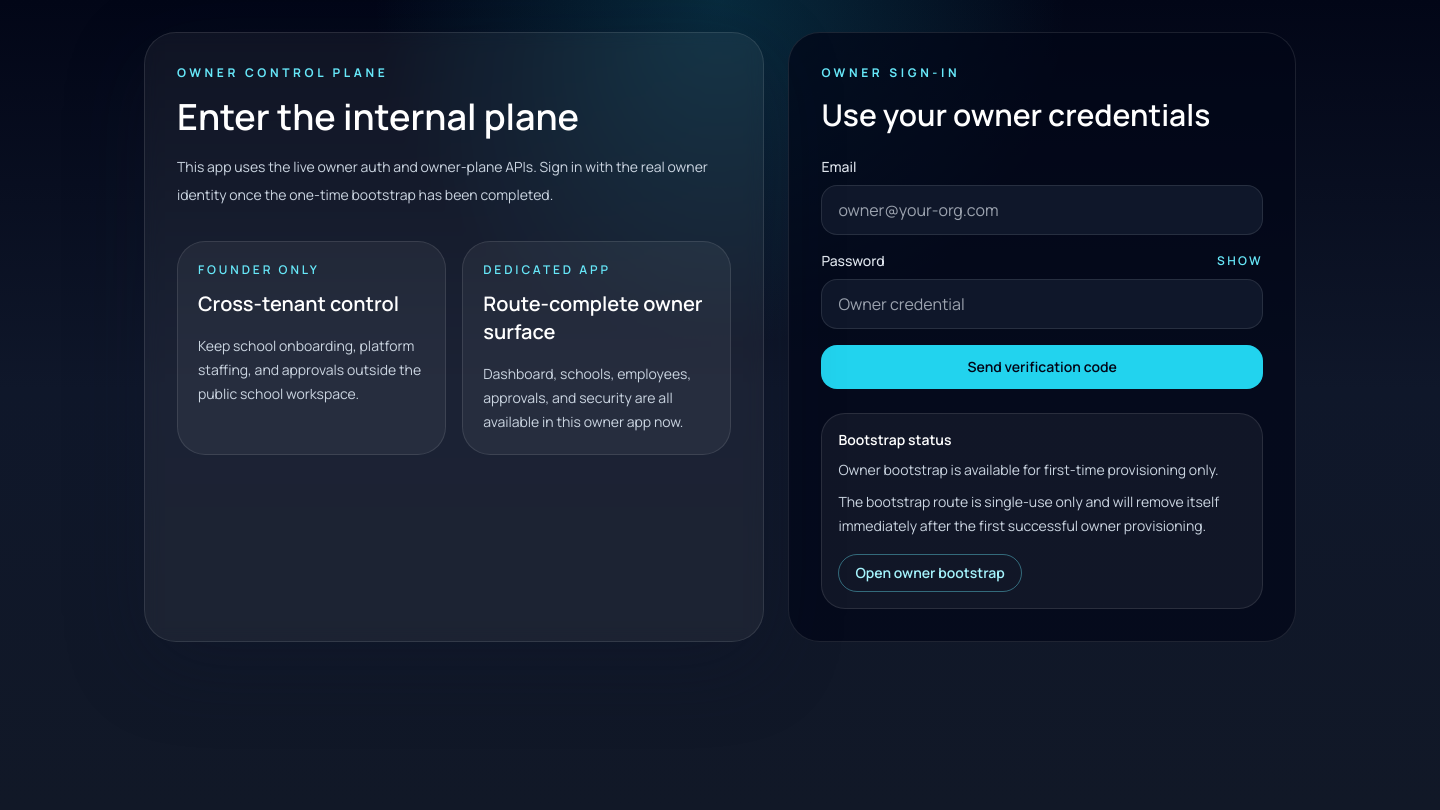
Test case: owner app › signs in through JWT and keeps login info out of localStorage
Expected: the heading "Use your owner credentials" is shown, [821,97,1263,133]
Type "owner.local@shardaos.internal" into the field labelled "Email" at (1042, 210), box [821,185,1263,235]
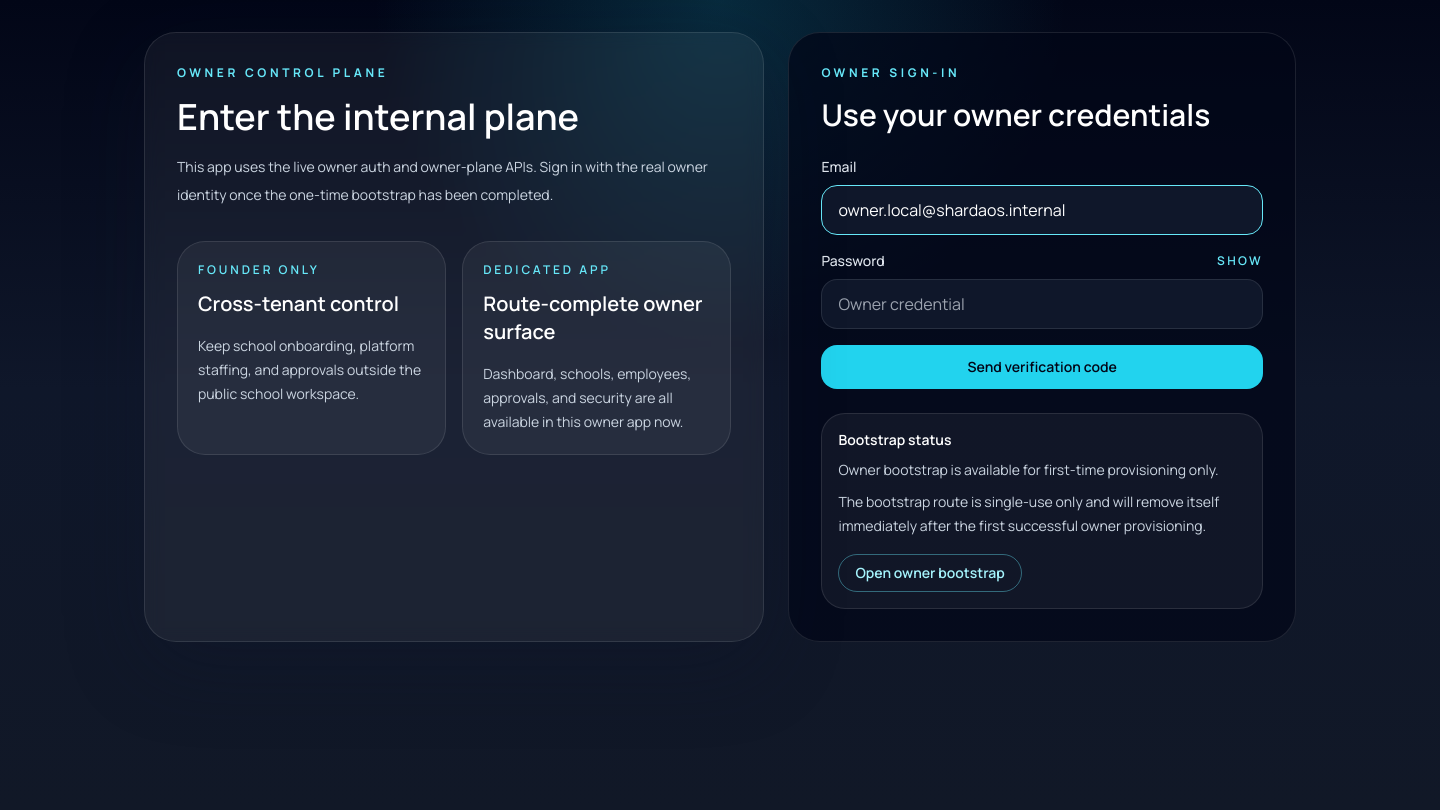
Type "OwnerPassword@123" into the password field labelled "Password" at (1042, 304), box [821,279,1263,329]
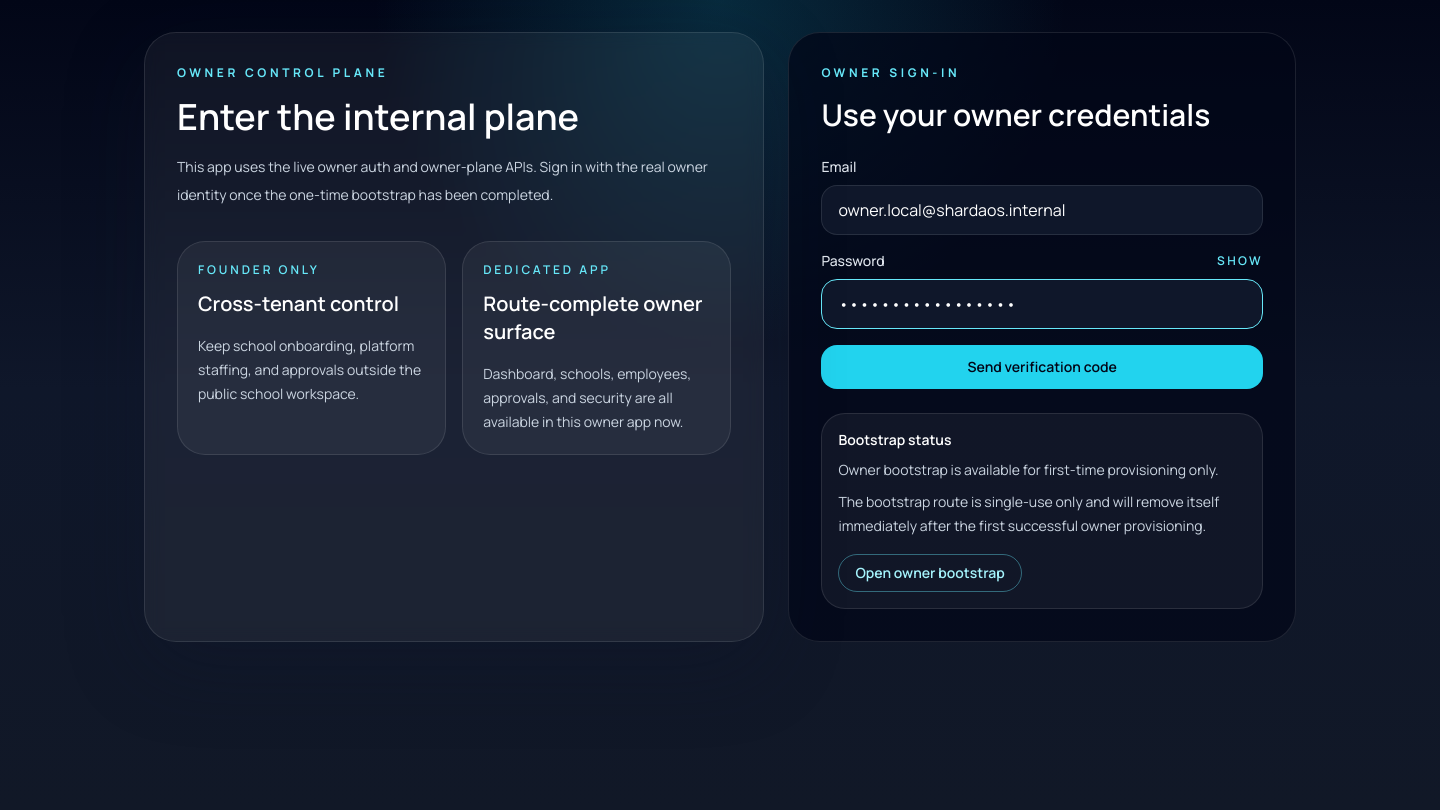
Click the button "Send verification code" at (1042, 367), box [821,345,1263,389]
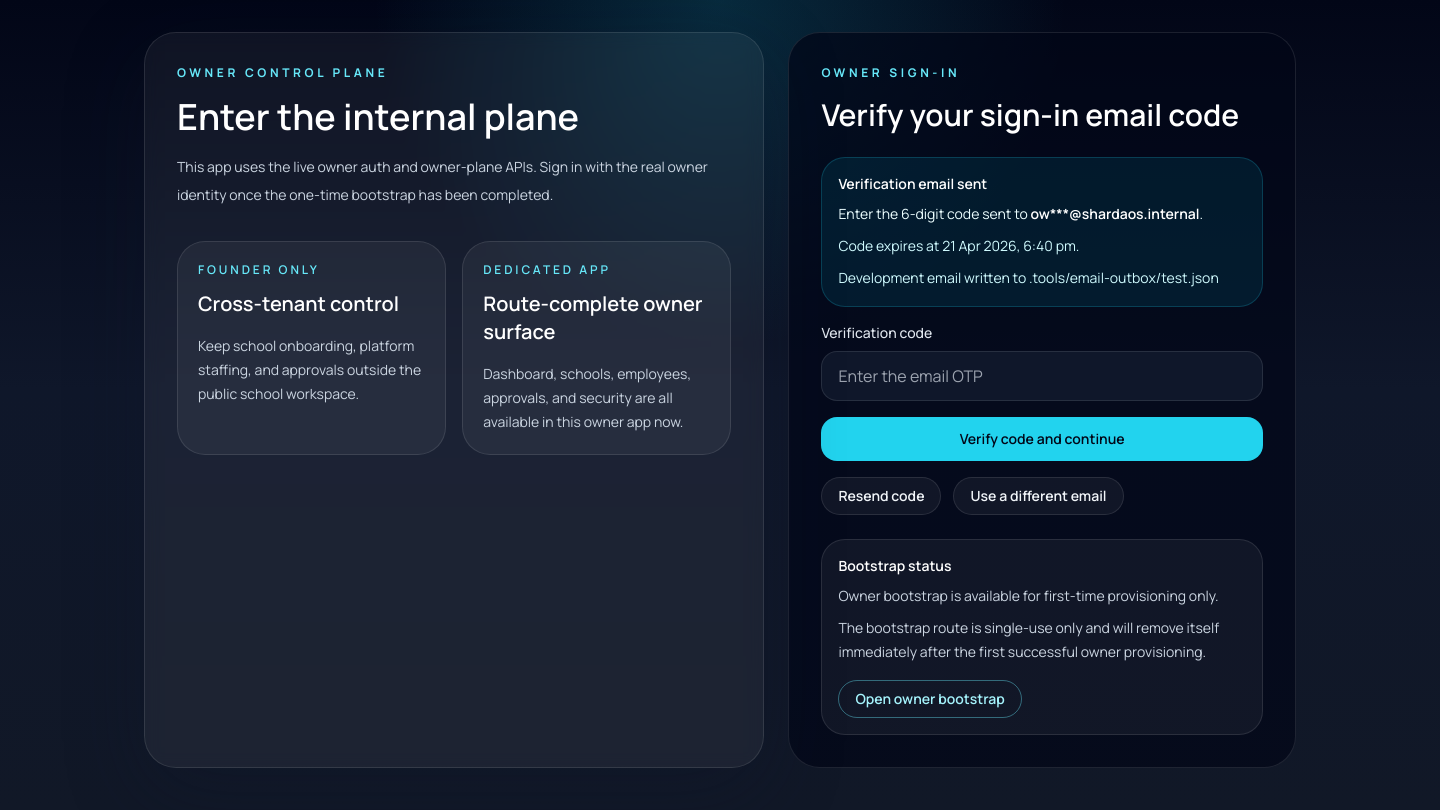
Expected: the text "Verification email sent" is shown, [838,174,987,193]
Type "123456" into the field labelled "Verification code" at (1042, 376), box [821,351,1263,401]
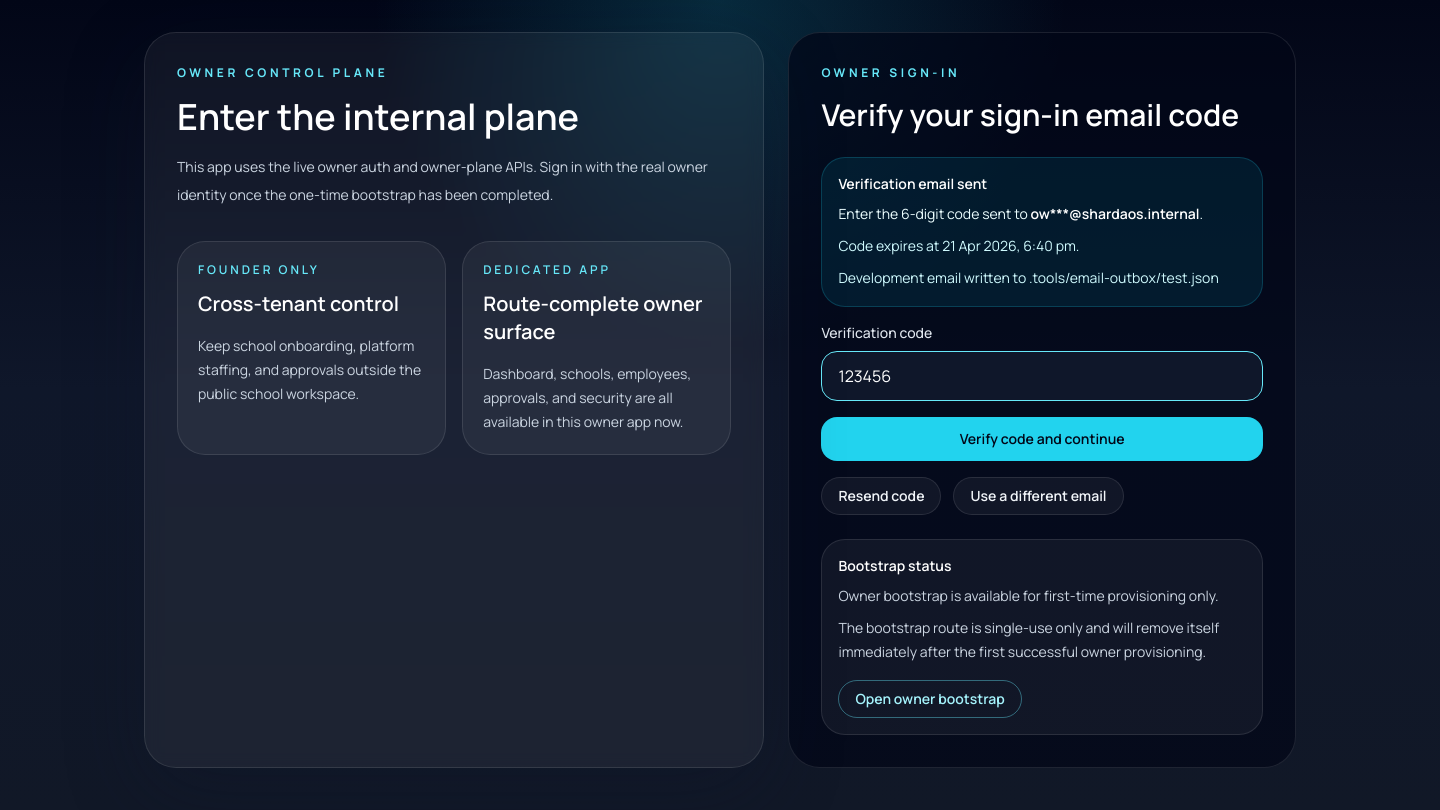
Click the button "Verify code and continue" at (1042, 439), box [821,417,1263,461]
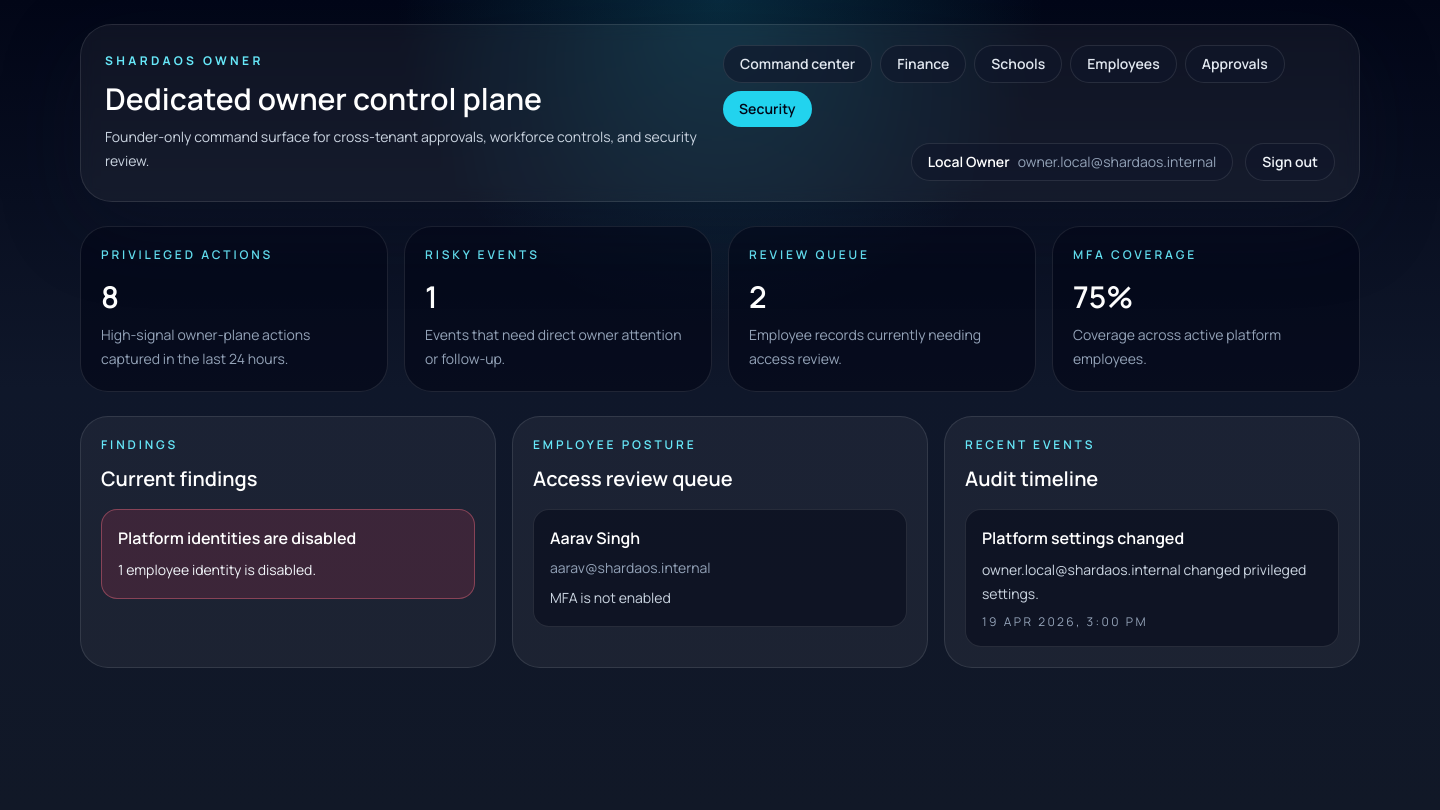
Expected: the heading "Current findings" is shown, [101,465,257,492]
Expected: the text "Platform identities are disabled" is shown, [118,527,356,549]
Expected: the text "Aarav Singh" is shown, [550,527,640,549]
